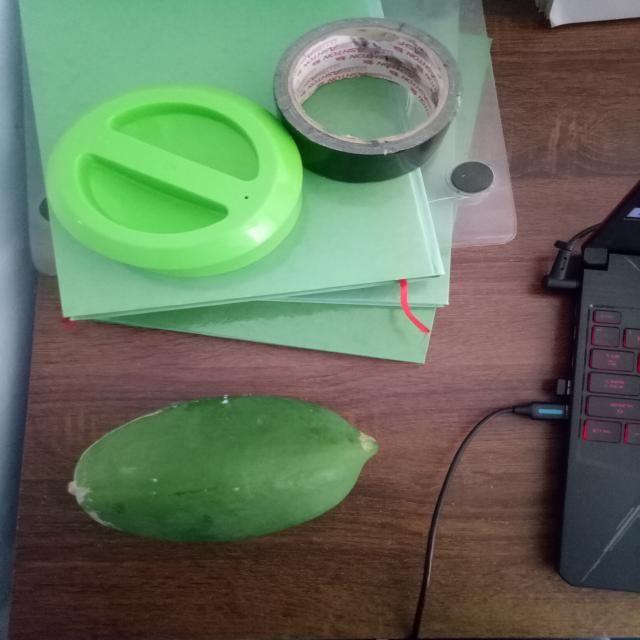Pepaya unrippen: (51, 397, 388, 555)
